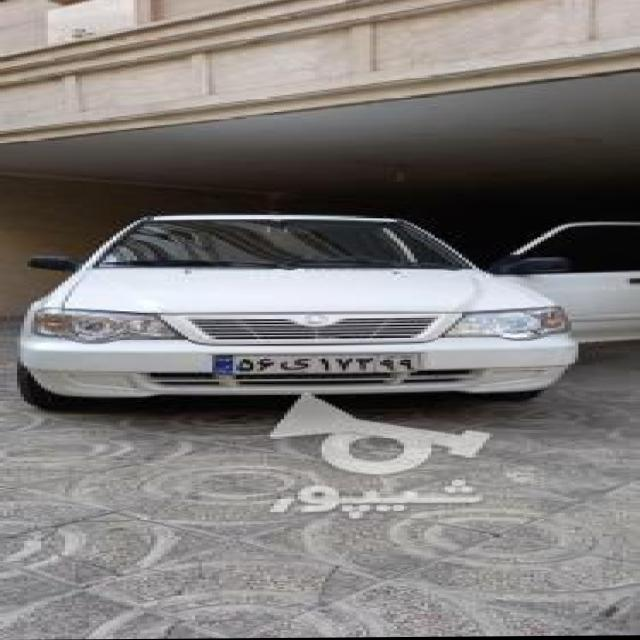licence: (212, 351, 421, 371)
